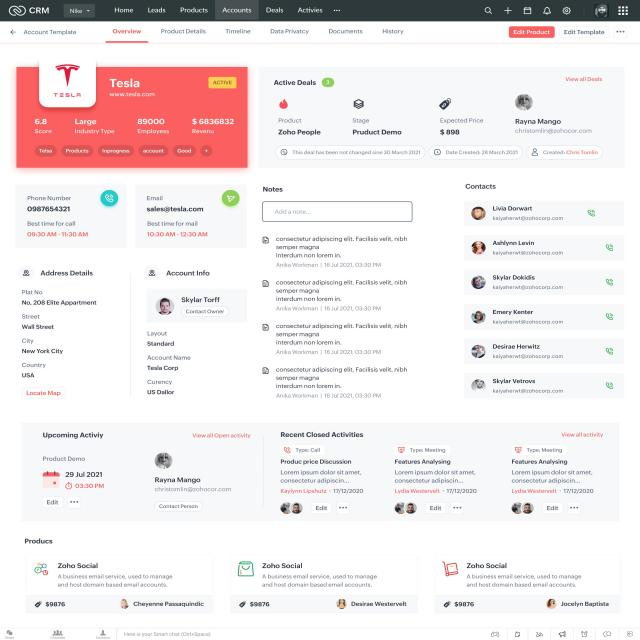button: (560, 26, 609, 38), (510, 26, 556, 38), (182, 306, 230, 317), (156, 501, 202, 512), (208, 76, 238, 89), (42, 497, 64, 508)
input: (262, 201, 413, 221)
